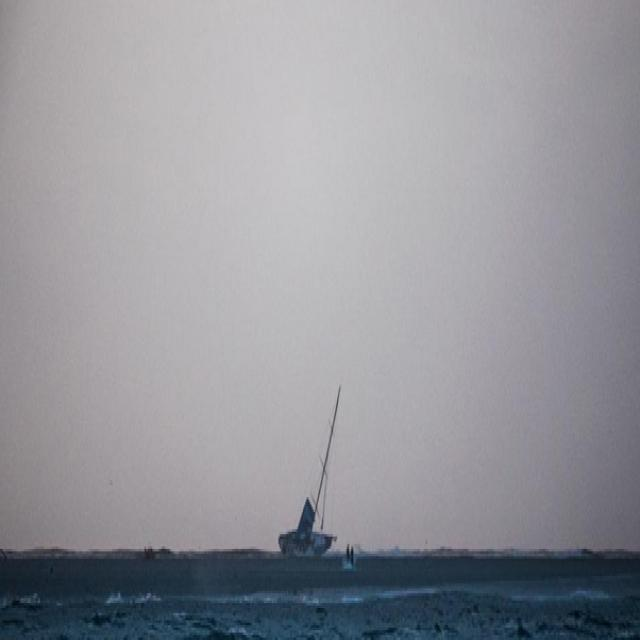sailboat: (276, 373, 348, 558)
